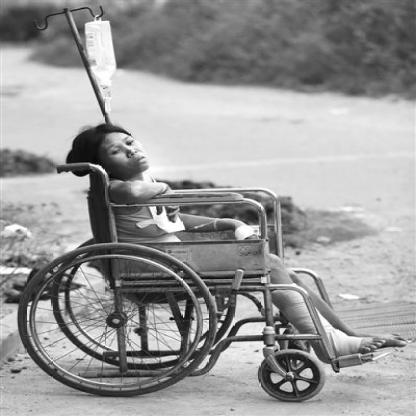wheelchair: (7, 120, 407, 399)
